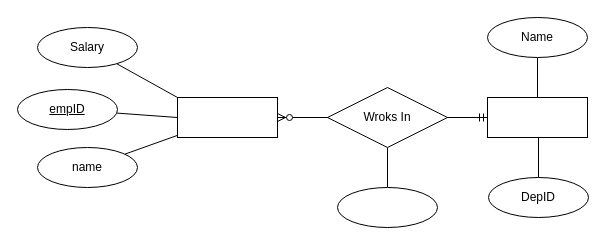
Image size: 606x245. Some labels were removed from this diagram. The centre of each missing label's shape, as x and y in pixels:
Department: the point at 537,117
Employee: the point at 227,117
start date: the point at 387,207
